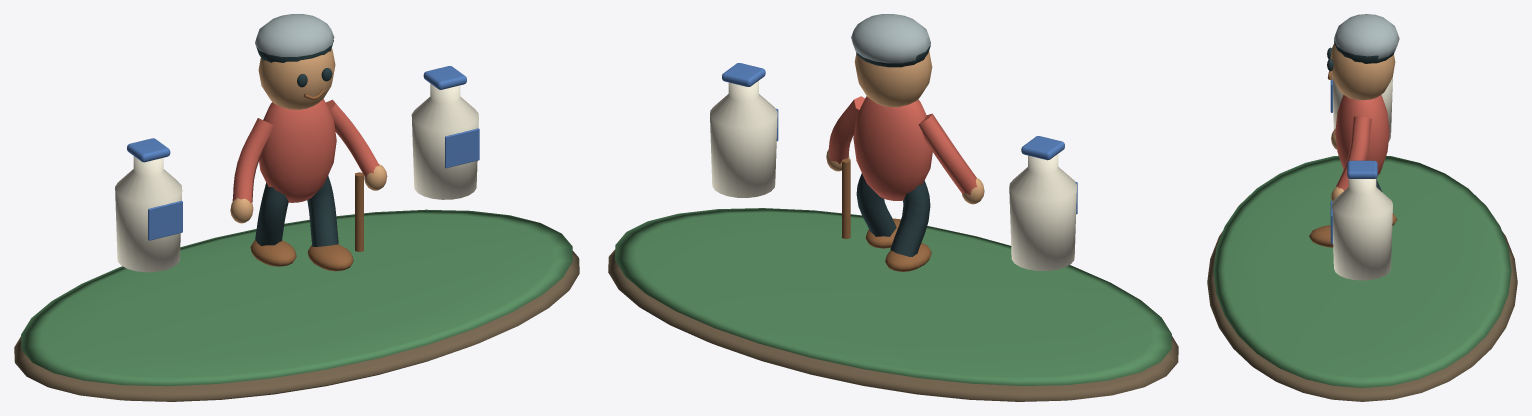
File: grandmother-milk.glb
The picture shows the model from 3 angles, left to right: view 1: azimuth 30°, elevation 25°; view 2: azimuth 150°, elevation 25°; view 3: azimuth 270°, elevation 25°; orthographic projection. The views are drawn at different scales.
Parts seen in each view (by area): view 1: grandmother-milk_surface_01, grandmother-milk_surface_02, grandmother-milk_surface_00, grandmother-milk_surface_07, grandmother-milk_surface_04, grandmother-milk_surface_03, grandmother-milk_surface_05, grandmother-milk_surface_08, grandmother-milk_surface_06; view 2: grandmother-milk_surface_01, grandmother-milk_surface_02, grandmother-milk_surface_00, grandmother-milk_surface_07, grandmother-milk_surface_05, grandmother-milk_surface_04, grandmother-milk_surface_08, grandmother-milk_surface_06, grandmother-milk_surface_03; view 3: grandmother-milk_surface_01, grandmother-milk_surface_02, grandmother-milk_surface_00, grandmother-milk_surface_07, grandmother-milk_surface_04, grandmother-milk_surface_08, grandmother-milk_surface_03, grandmother-milk_surface_05, grandmother-milk_surface_06.
Boxes of the visible parts, x1,y1,x2,y2 form: grandmother-milk_surface_01: (21,209,572,386); grandmother-milk_surface_02: (115,83,478,272); grandmother-milk_surface_00: (14,251,579,401); grandmother-milk_surface_07: (232,99,379,203); grandmother-milk_surface_04: (230,48,387,223); grandmother-milk_surface_03: (127,66,479,240); grandmother-milk_surface_05: (255,40,338,246); grandmother-milk_surface_08: (255,14,334,56); grandmother-milk_surface_06: (250,89,363,271); grandmother-milk_surface_01: (615,208,1171,385); grandmother-milk_surface_02: (710,81,1076,270); grandmother-milk_surface_00: (608,249,1178,401); grandmother-milk_surface_07: (828,96,976,200); grandmother-milk_surface_05: (856,45,930,256); grandmother-milk_surface_04: (826,51,984,204); grandmother-milk_surface_08: (851,14,930,63); grandmother-milk_surface_06: (842,158,931,271); grandmother-milk_surface_03: (722,63,1077,214); grandmother-milk_surface_01: (1213,155,1511,387); grandmother-milk_surface_02: (1332,77,1392,280); grandmother-milk_surface_00: (1207,231,1517,401); grandmother-milk_surface_07: (1335,94,1389,190); grandmother-milk_surface_04: (1330,43,1395,200); grandmother-milk_surface_08: (1334,14,1399,59); grandmother-milk_surface_03: (1330,75,1377,244); grandmother-milk_surface_05: (1327,40,1394,192); grandmother-milk_surface_06: (1309,71,1397,247).
Size of the model in its own units: 4.56 by 2.46 by 2.5.
